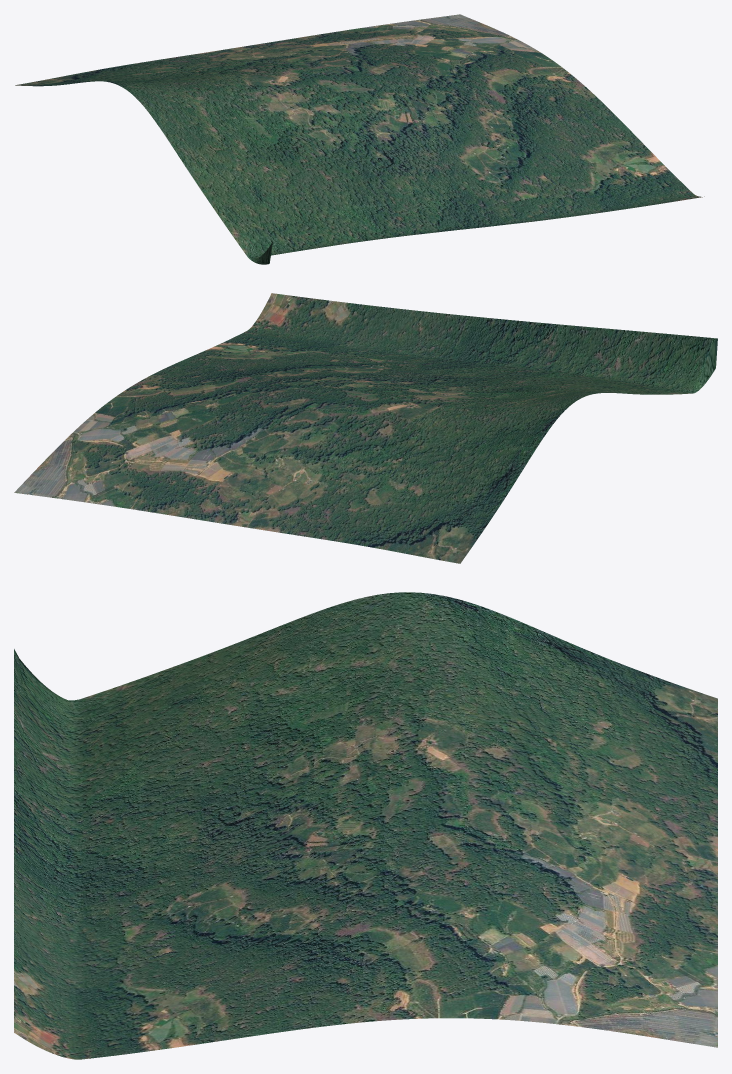
File: terrain_real_T_E01_N06.glb
3 renders of one model, top to bottom at view 1: azimuth 30°, elevation 25°; view 2: azimuth 150°, elevation 25°; view 3: azimuth 270°, elevation 25°, orthographic. The views are drawn at different scales.
Visible parts, largest first — view 1: Terrain_Real_DEM_T_E01_N06; view 2: Terrain_Real_DEM_T_E01_N06; view 3: Terrain_Real_DEM_T_E01_N06.
Part boxes in pixels (left/top/right/bottom): Terrain_Real_DEM_T_E01_N06: left=15, top=14, right=704, bottom=264; Terrain_Real_DEM_T_E01_N06: left=14, top=293, right=717, bottom=563; Terrain_Real_DEM_T_E01_N06: left=14, top=592, right=717, bottom=1059.
Size of the model in its own units: 2000 by 533 by 2000.
1 material, 1 textured.
